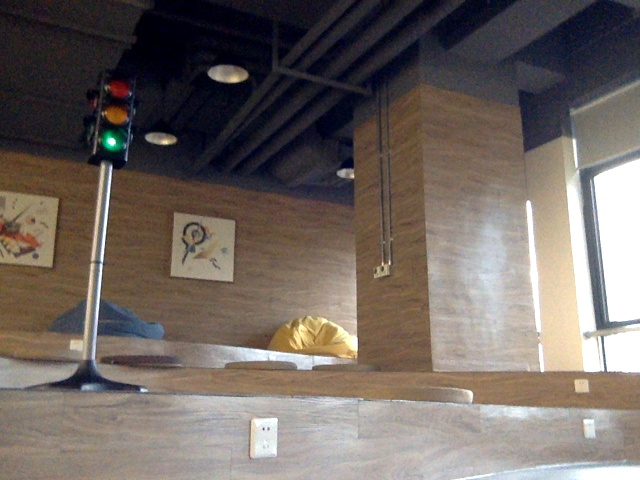green: (96, 78, 129, 158)
